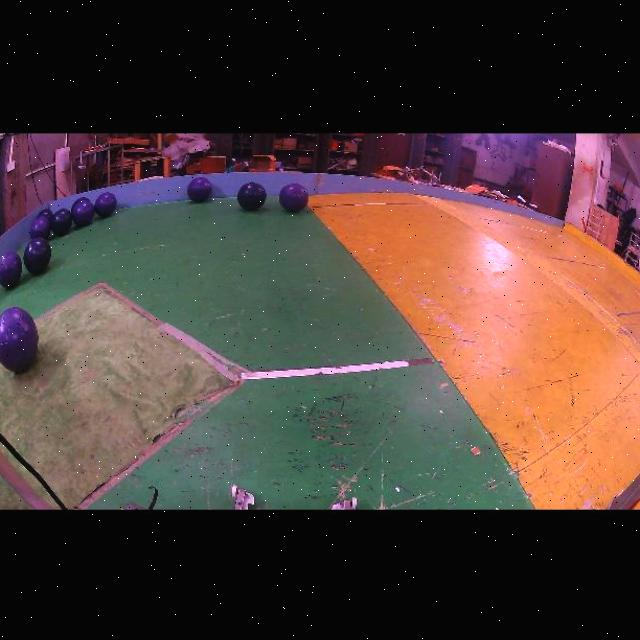B: (23, 237, 51, 274), (238, 182, 266, 209), (51, 208, 73, 234), (38, 207, 53, 220)
P: (0, 306, 38, 372), (279, 182, 308, 211), (0, 250, 22, 288), (187, 177, 213, 202), (72, 199, 95, 225), (94, 191, 117, 216), (30, 216, 51, 240)
